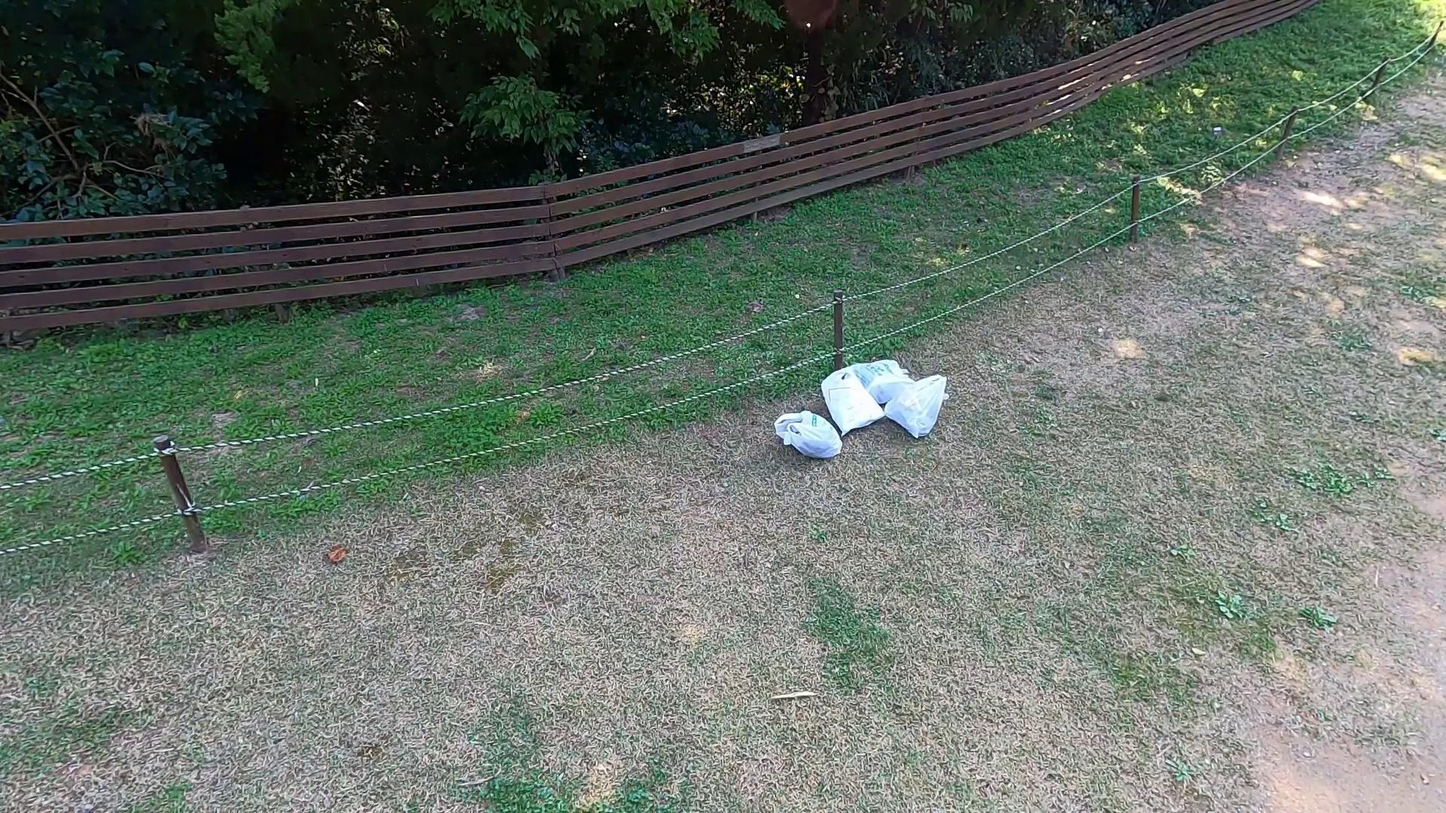trash: (823, 366, 884, 438), (887, 372, 949, 439), (772, 410, 845, 460), (848, 359, 914, 406)
